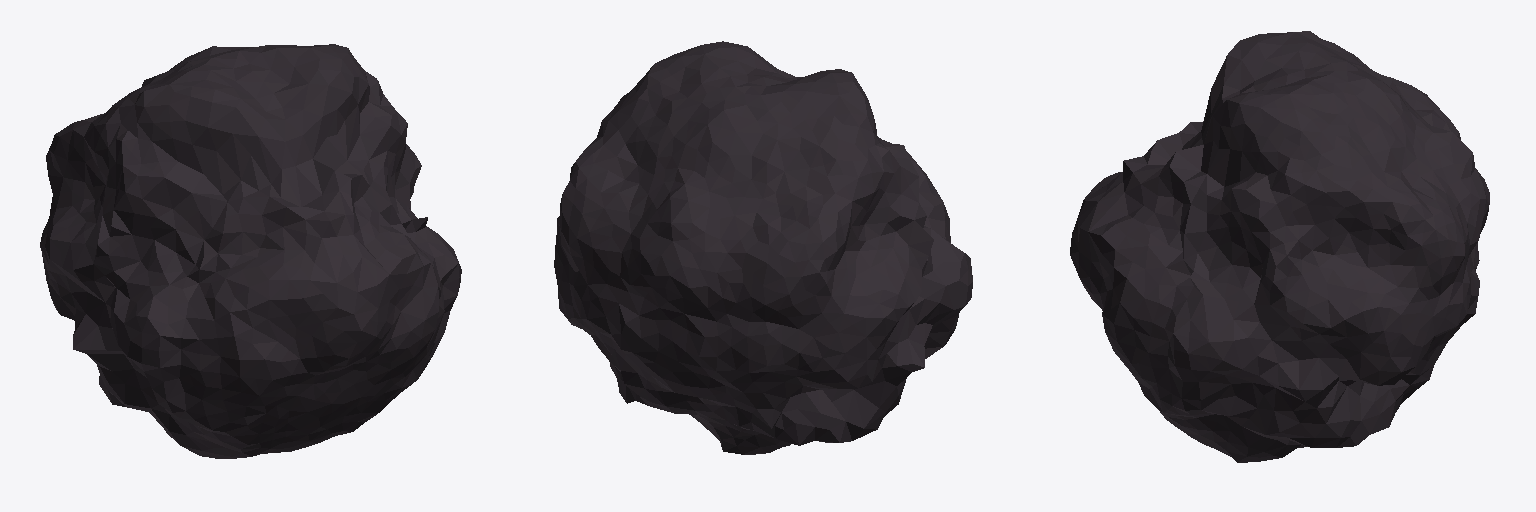
The model's file is asteroide-anab.obj.
3 views of the same model, side by side, from view 1: azimuth 30°, elevation 25°; view 2: azimuth 150°, elevation 25°; view 3: azimuth 270°, elevation 25° (orthographic).
Parts seen in each view (by area): view 1: Esfera_UV; view 2: Esfera_UV; view 3: Esfera_UV.
Part boxes in pixels (x1,y1,x2,y2): Esfera_UV: (40, 44, 461, 458); Esfera_UV: (554, 41, 972, 454); Esfera_UV: (1070, 31, 1489, 462).
Size of the model in its own units: 1.88 by 1.97 by 1.97.